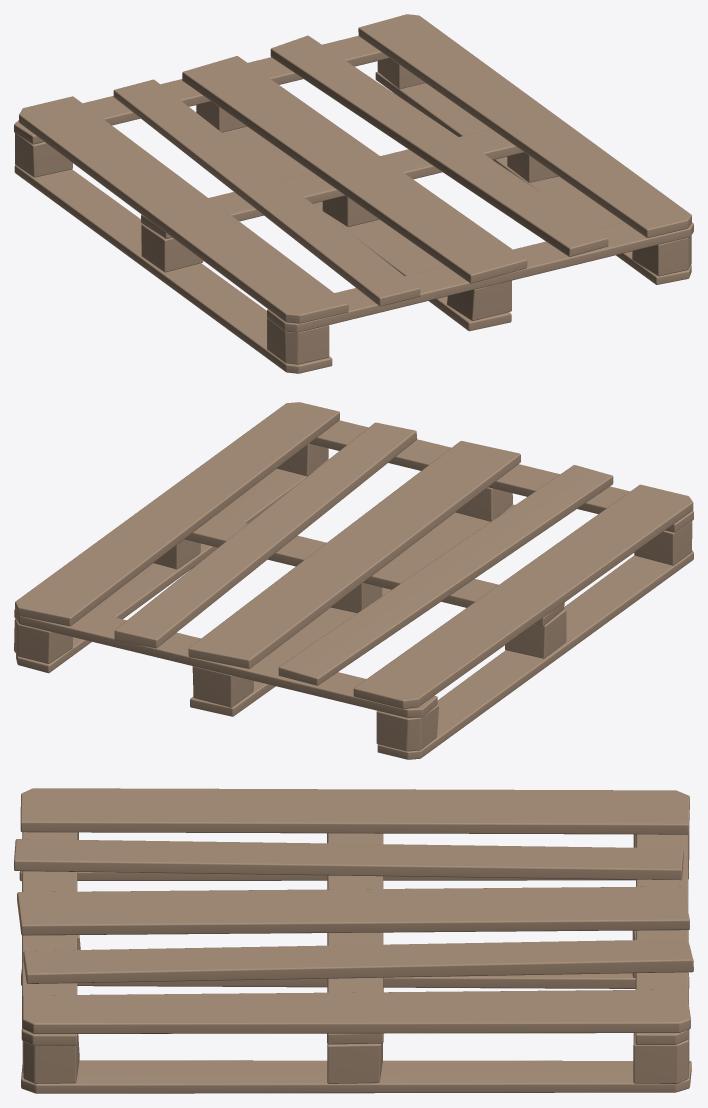
The picture shows the model from 3 angles, top to bottom: view 1: azimuth 30°, elevation 25°; view 2: azimuth 150°, elevation 25°; view 3: azimuth 270°, elevation 25°; orthographic projection. The views are drawn at different scales.
Parts seen in each view (by area): view 1: pCube26; view 2: pCube26; view 3: pCube26.
Part boxes in pixels (box(x1,y1,x2,y2)): pCube26: box(14, 14, 693, 373); pCube26: box(14, 402, 693, 759); pCube26: box(14, 788, 693, 1093).
Size of the model in its own units: 101 by 14.39 by 122.
